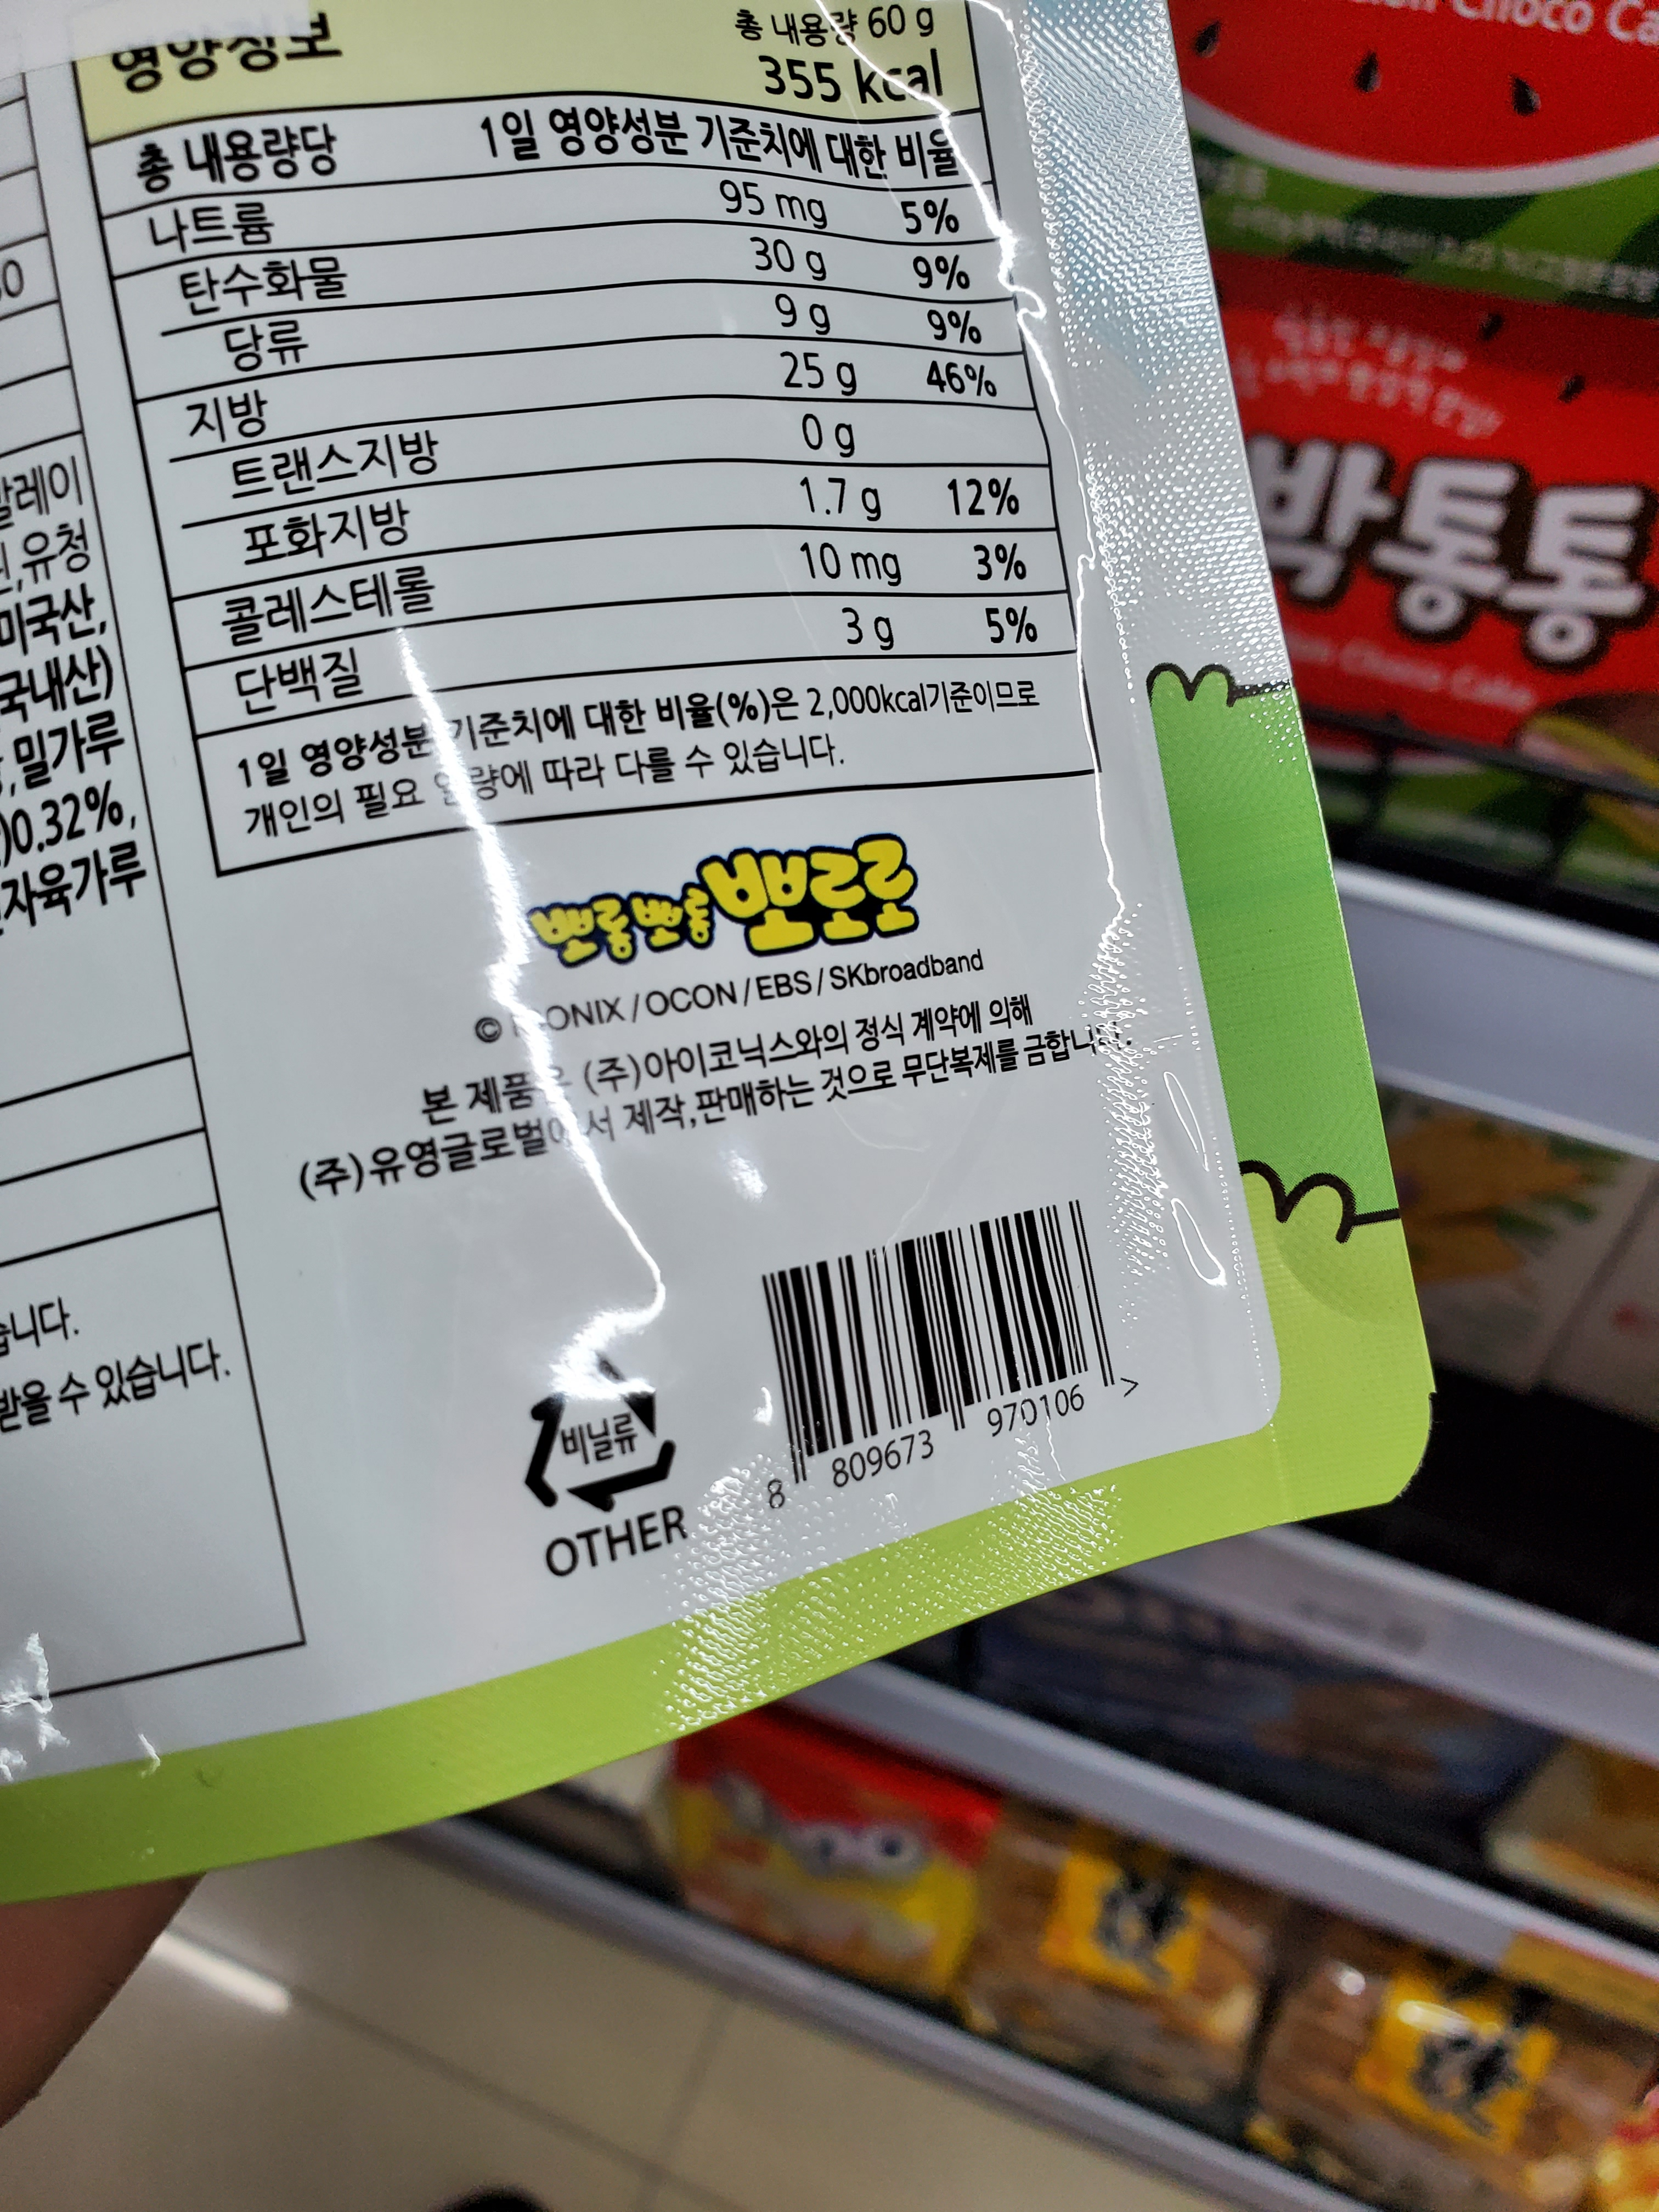barcode: (695, 1183, 1166, 1519)
